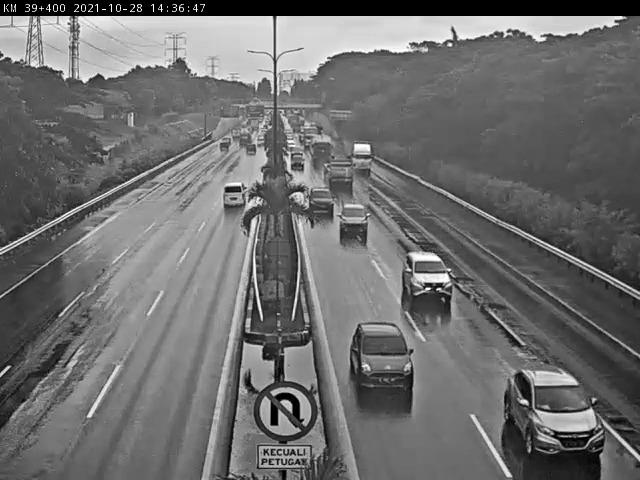big truck: (349, 144, 378, 177), (326, 162, 356, 187)
car: (511, 365, 604, 454), (351, 321, 430, 406), (406, 245, 450, 310), (223, 183, 249, 209), (306, 188, 338, 209), (347, 204, 364, 235), (289, 151, 307, 172)
